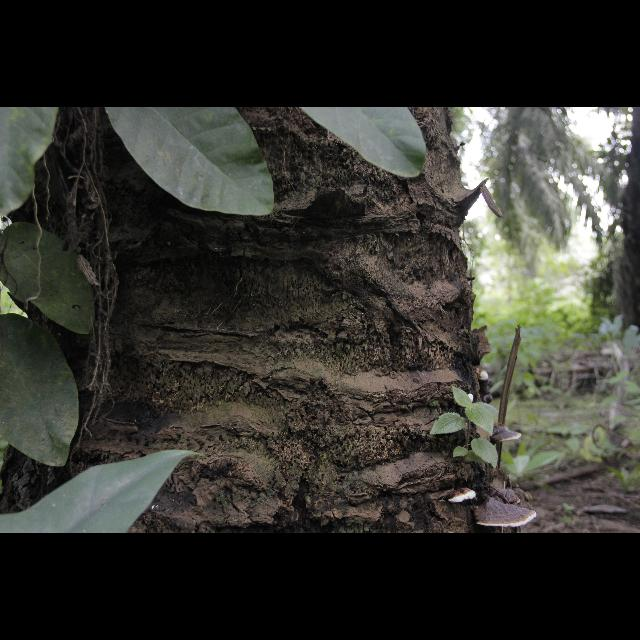ganoderma: (475, 499, 538, 530), (486, 488, 522, 506), (493, 427, 524, 444), (449, 489, 477, 505)
primordium: (478, 371, 490, 382), (469, 395, 475, 404)
